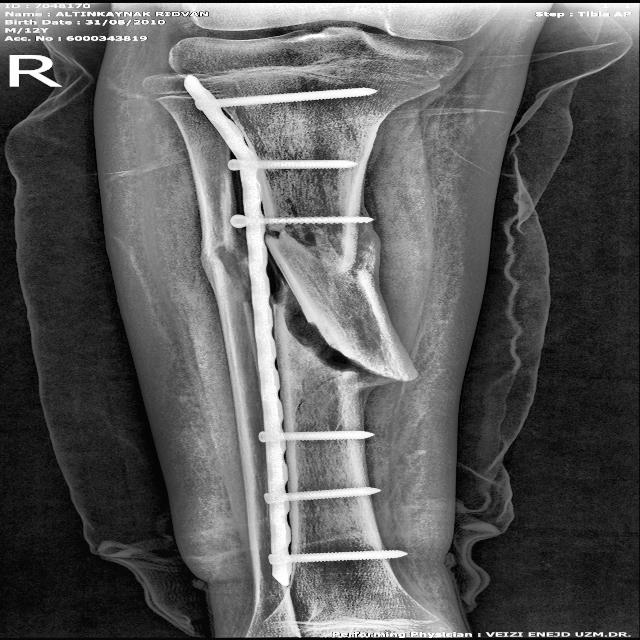Fracture: (255, 279, 428, 396), (223, 207, 406, 267)
